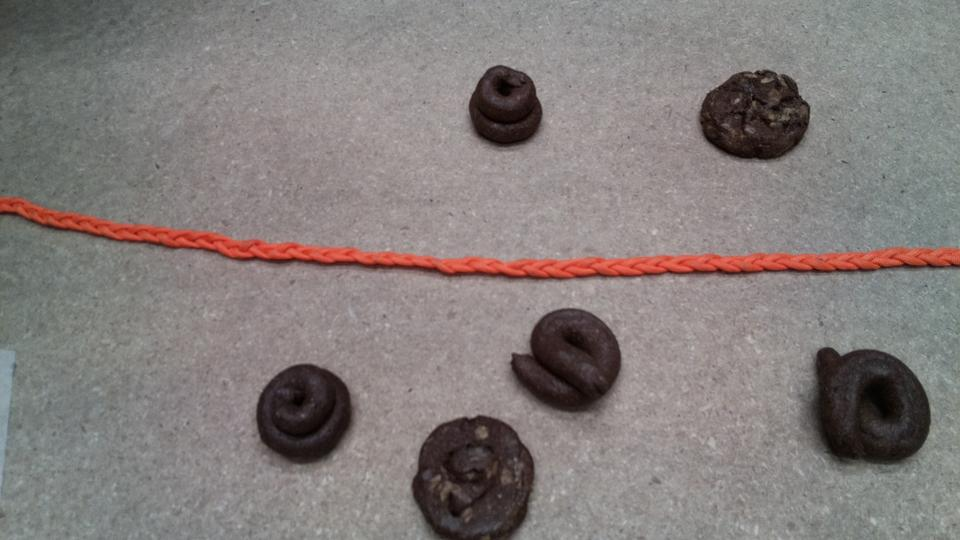poop: (814, 340, 935, 473), (412, 410, 536, 539), (503, 297, 631, 419), (697, 68, 814, 161), (254, 360, 359, 462), (460, 64, 550, 151)
rope: (2, 187, 960, 289)
